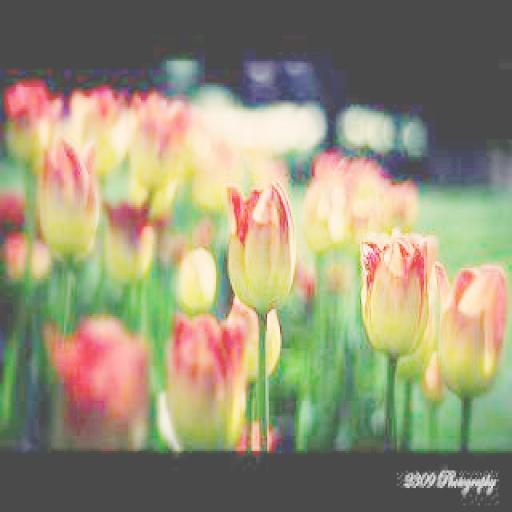tulip: (360, 224, 438, 364), (434, 264, 507, 398), (226, 183, 296, 316), (37, 138, 102, 262)
